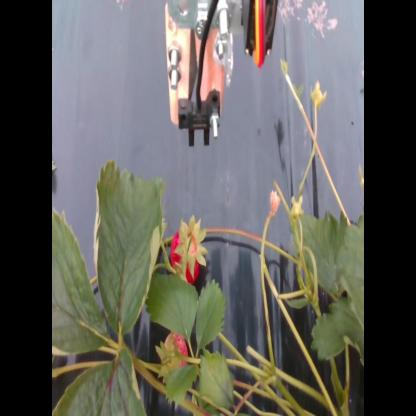ripe: (166, 223, 204, 280), (158, 330, 195, 385)
